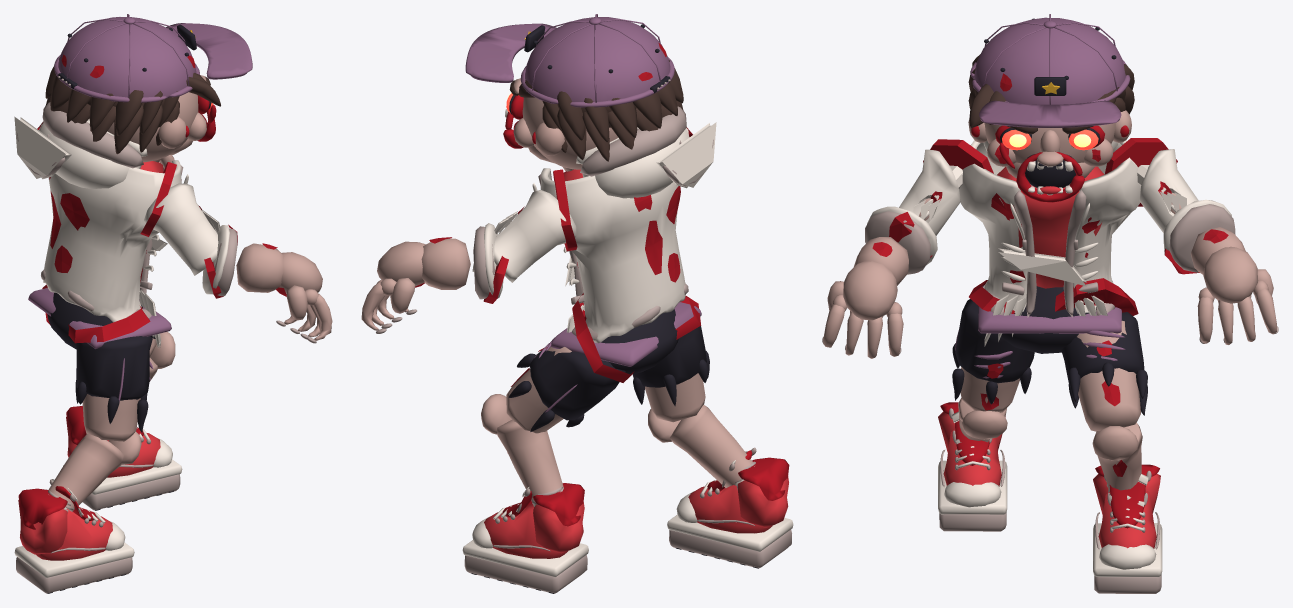
File: inf.sprinter.glb
The picture shows the model from 3 angles, left to right: view 1: azimuth 30°, elevation 25°; view 2: azimuth 150°, elevation 25°; view 3: azimuth 270°, elevation 25°; orthographic projection. The views are drawn at different scales.
Parts seen in each view (by area): view 1: torso, head, footR, legR, footL, armR, foreArmR, shinR, handR, hip, stump_legR, shinL (+1 smaller); view 2: torso, head, footL, footR, legL, legR, armL, shinR, hip, shinL, foreArmL, handL (+2 smaller); view 3: head, torso, footL, legL, footR, legR, handR, handL, hip, foreArmR, foreArmL, armR (+6 smaller).
Boxes of the visible parts, x1,y1,x2,y2 form: torso: (14, 102, 188, 347); head: (45, 14, 252, 162); footR: (14, 479, 134, 593); legR: (75, 336, 153, 441); footL: (63, 406, 182, 510); armR: (144, 183, 220, 275); foreArmR: (202, 224, 284, 296); shinR: (48, 431, 141, 512); handR: (276, 252, 332, 343); hip: (28, 288, 171, 349); stump_legR: (68, 306, 150, 343); shinL: (149, 331, 175, 381); torso: (532, 106, 716, 343); head: (465, 14, 683, 171); footL: (462, 483, 588, 593); footR: (667, 447, 793, 568); legL: (506, 341, 625, 433); legR: (632, 326, 709, 422); armL: (494, 190, 576, 282); shinR: (648, 405, 755, 490); hip: (551, 302, 701, 374); shinL: (481, 394, 563, 506); foreArmL: (421, 223, 503, 299); handL: (361, 241, 425, 333); head: (968, 14, 1134, 202); torso: (959, 140, 1140, 346); footL: (1093, 464, 1162, 593); legL: (1061, 312, 1147, 431); footR: (938, 402, 1007, 531); legR: (952, 299, 1034, 412); handR: (822, 261, 903, 358); handL: (1197, 246, 1278, 344); hip: (978, 285, 1121, 353); foreArmR: (854, 206, 937, 285); foreArmL: (1163, 199, 1245, 274); armR: (899, 149, 960, 235).
Size of the model in its own units: 0.831 by 1.52 by 1.17.
